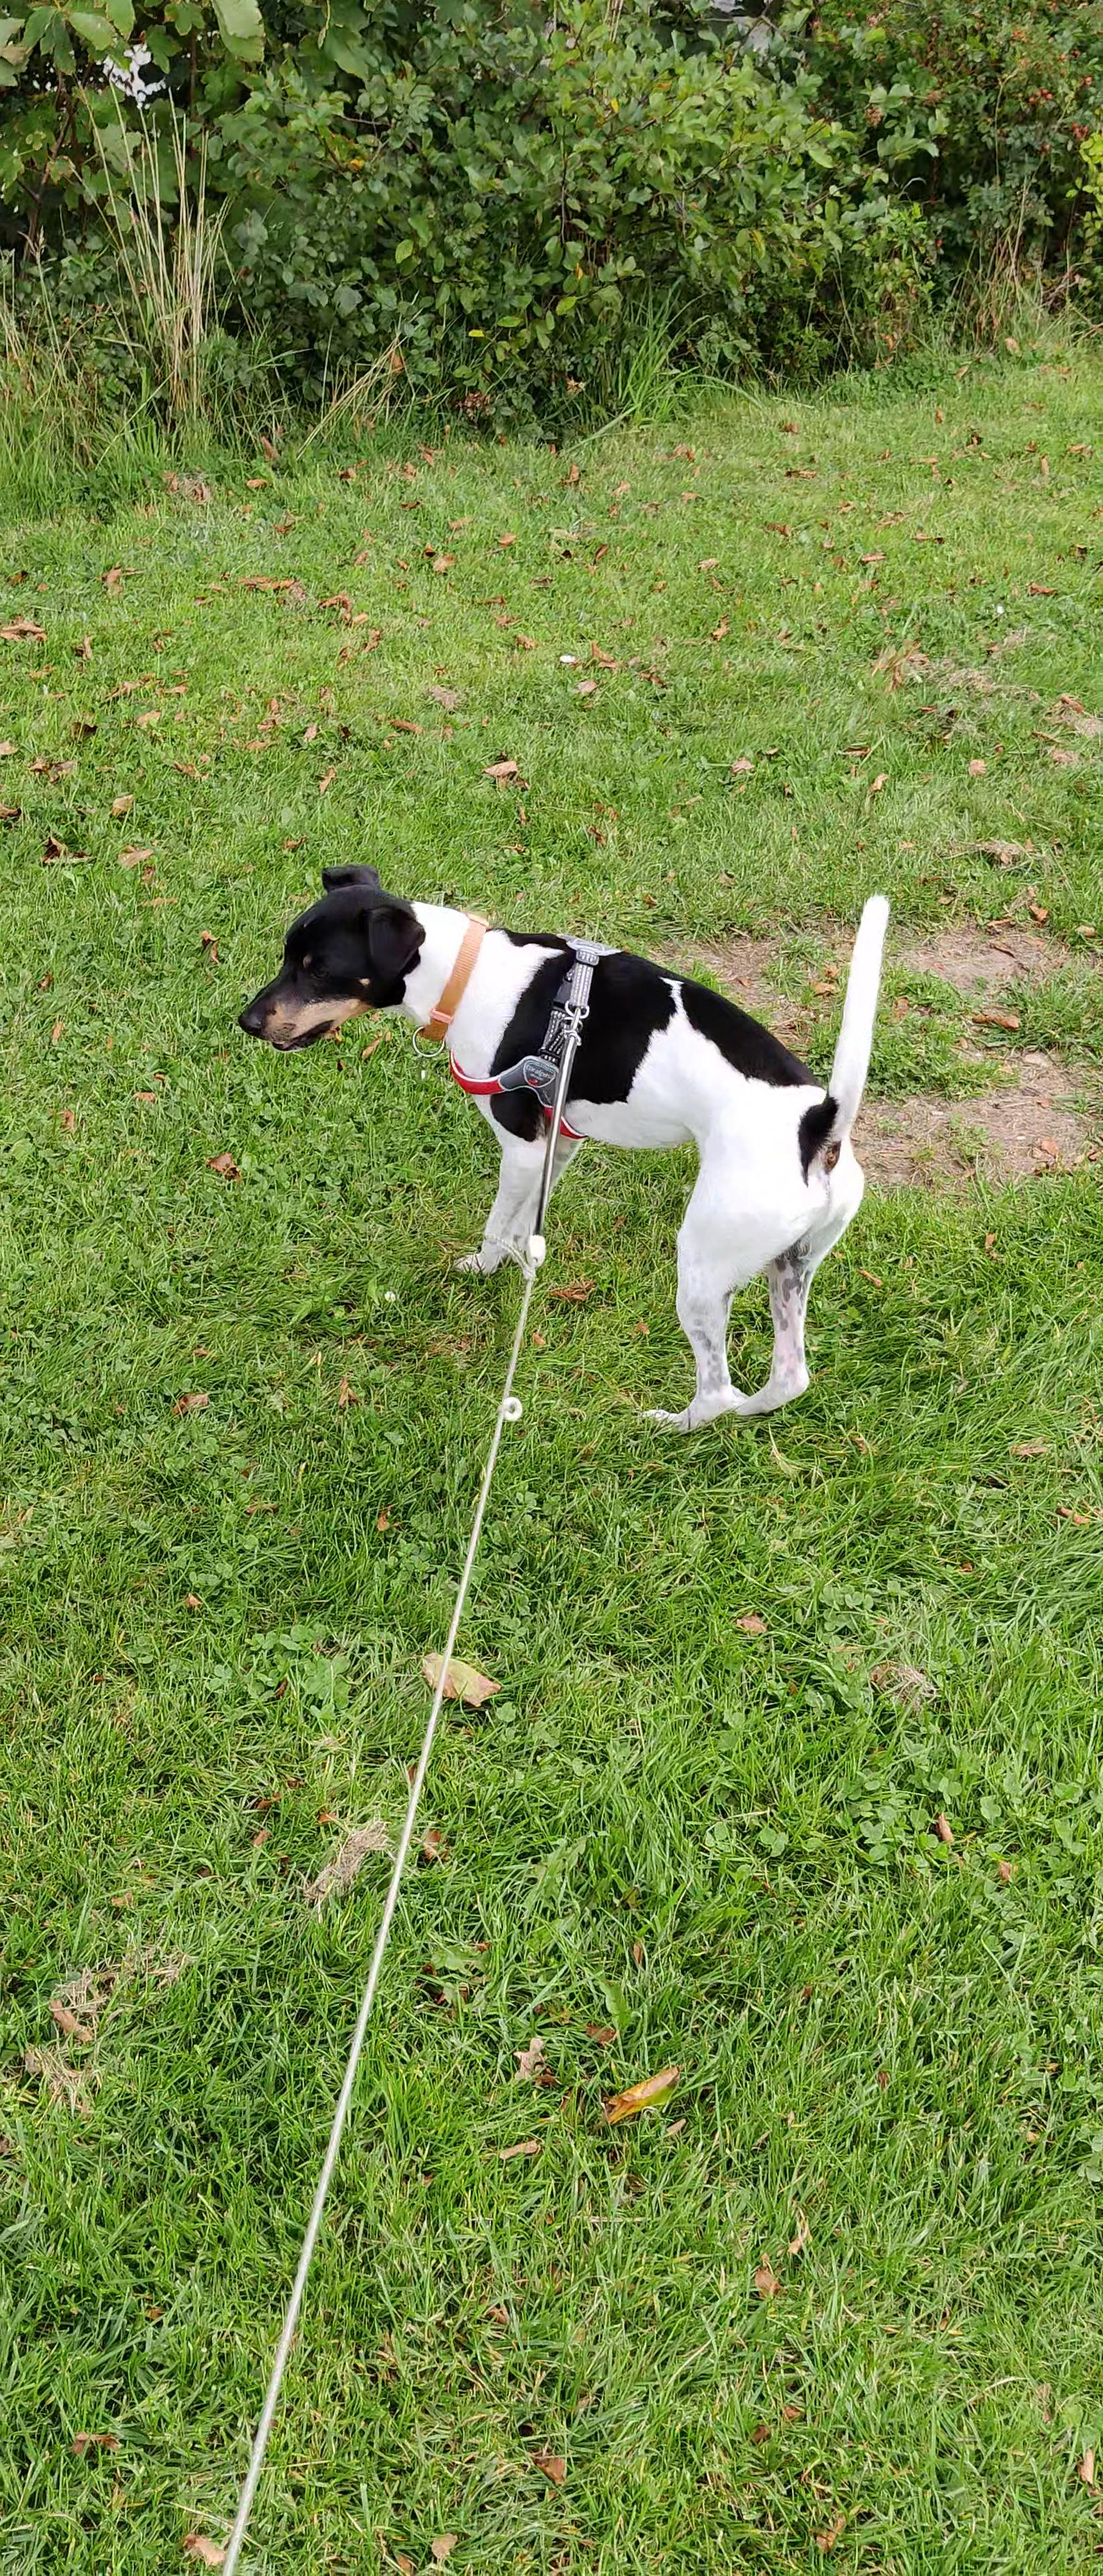Dog: (210, 843, 924, 1452)
